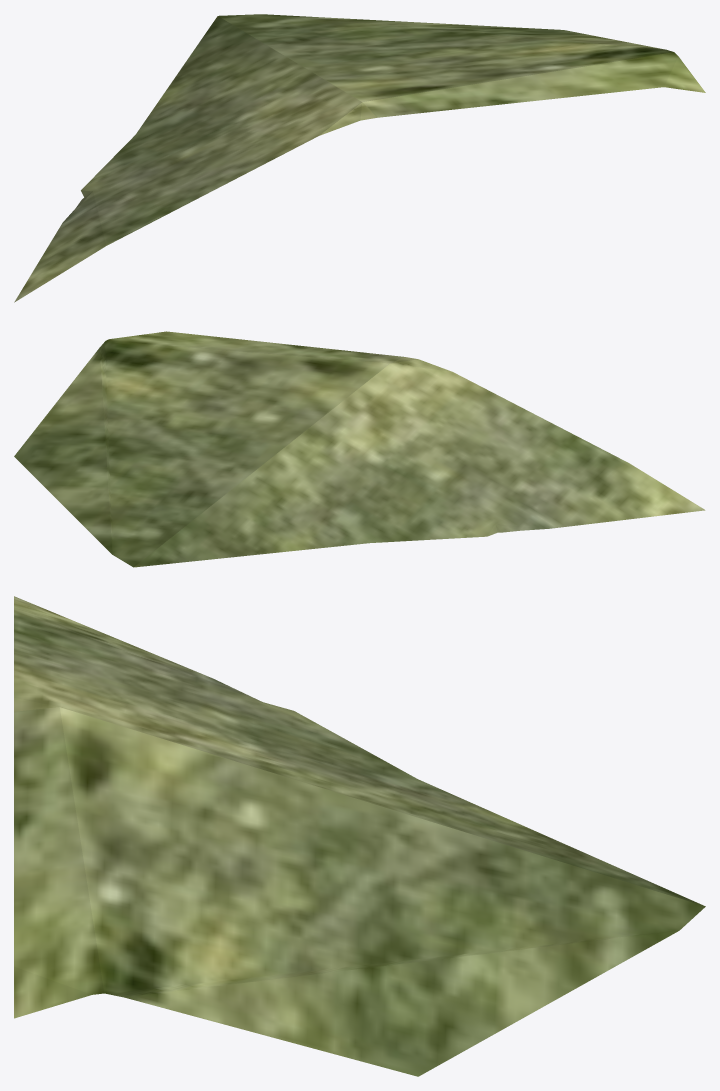
3 views of the same model, one above another, from view 1: azimuth 30°, elevation 25°; view 2: azimuth 150°, elevation 25°; view 3: azimuth 270°, elevation 25° (orthographic). The views are drawn at different scales.
Size of the model in its own units: 3.91 by 0.5389 by 2.38.
Materials: 1 (1 with a texture image).
